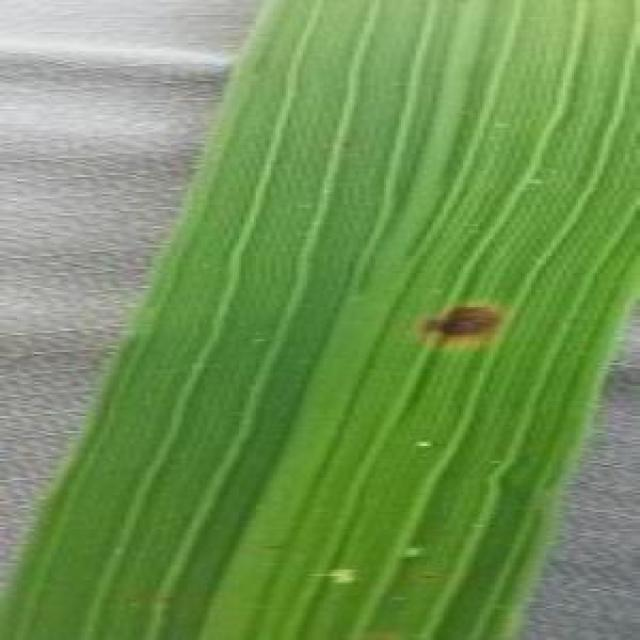Brown_Spot: (404, 289, 507, 347)
